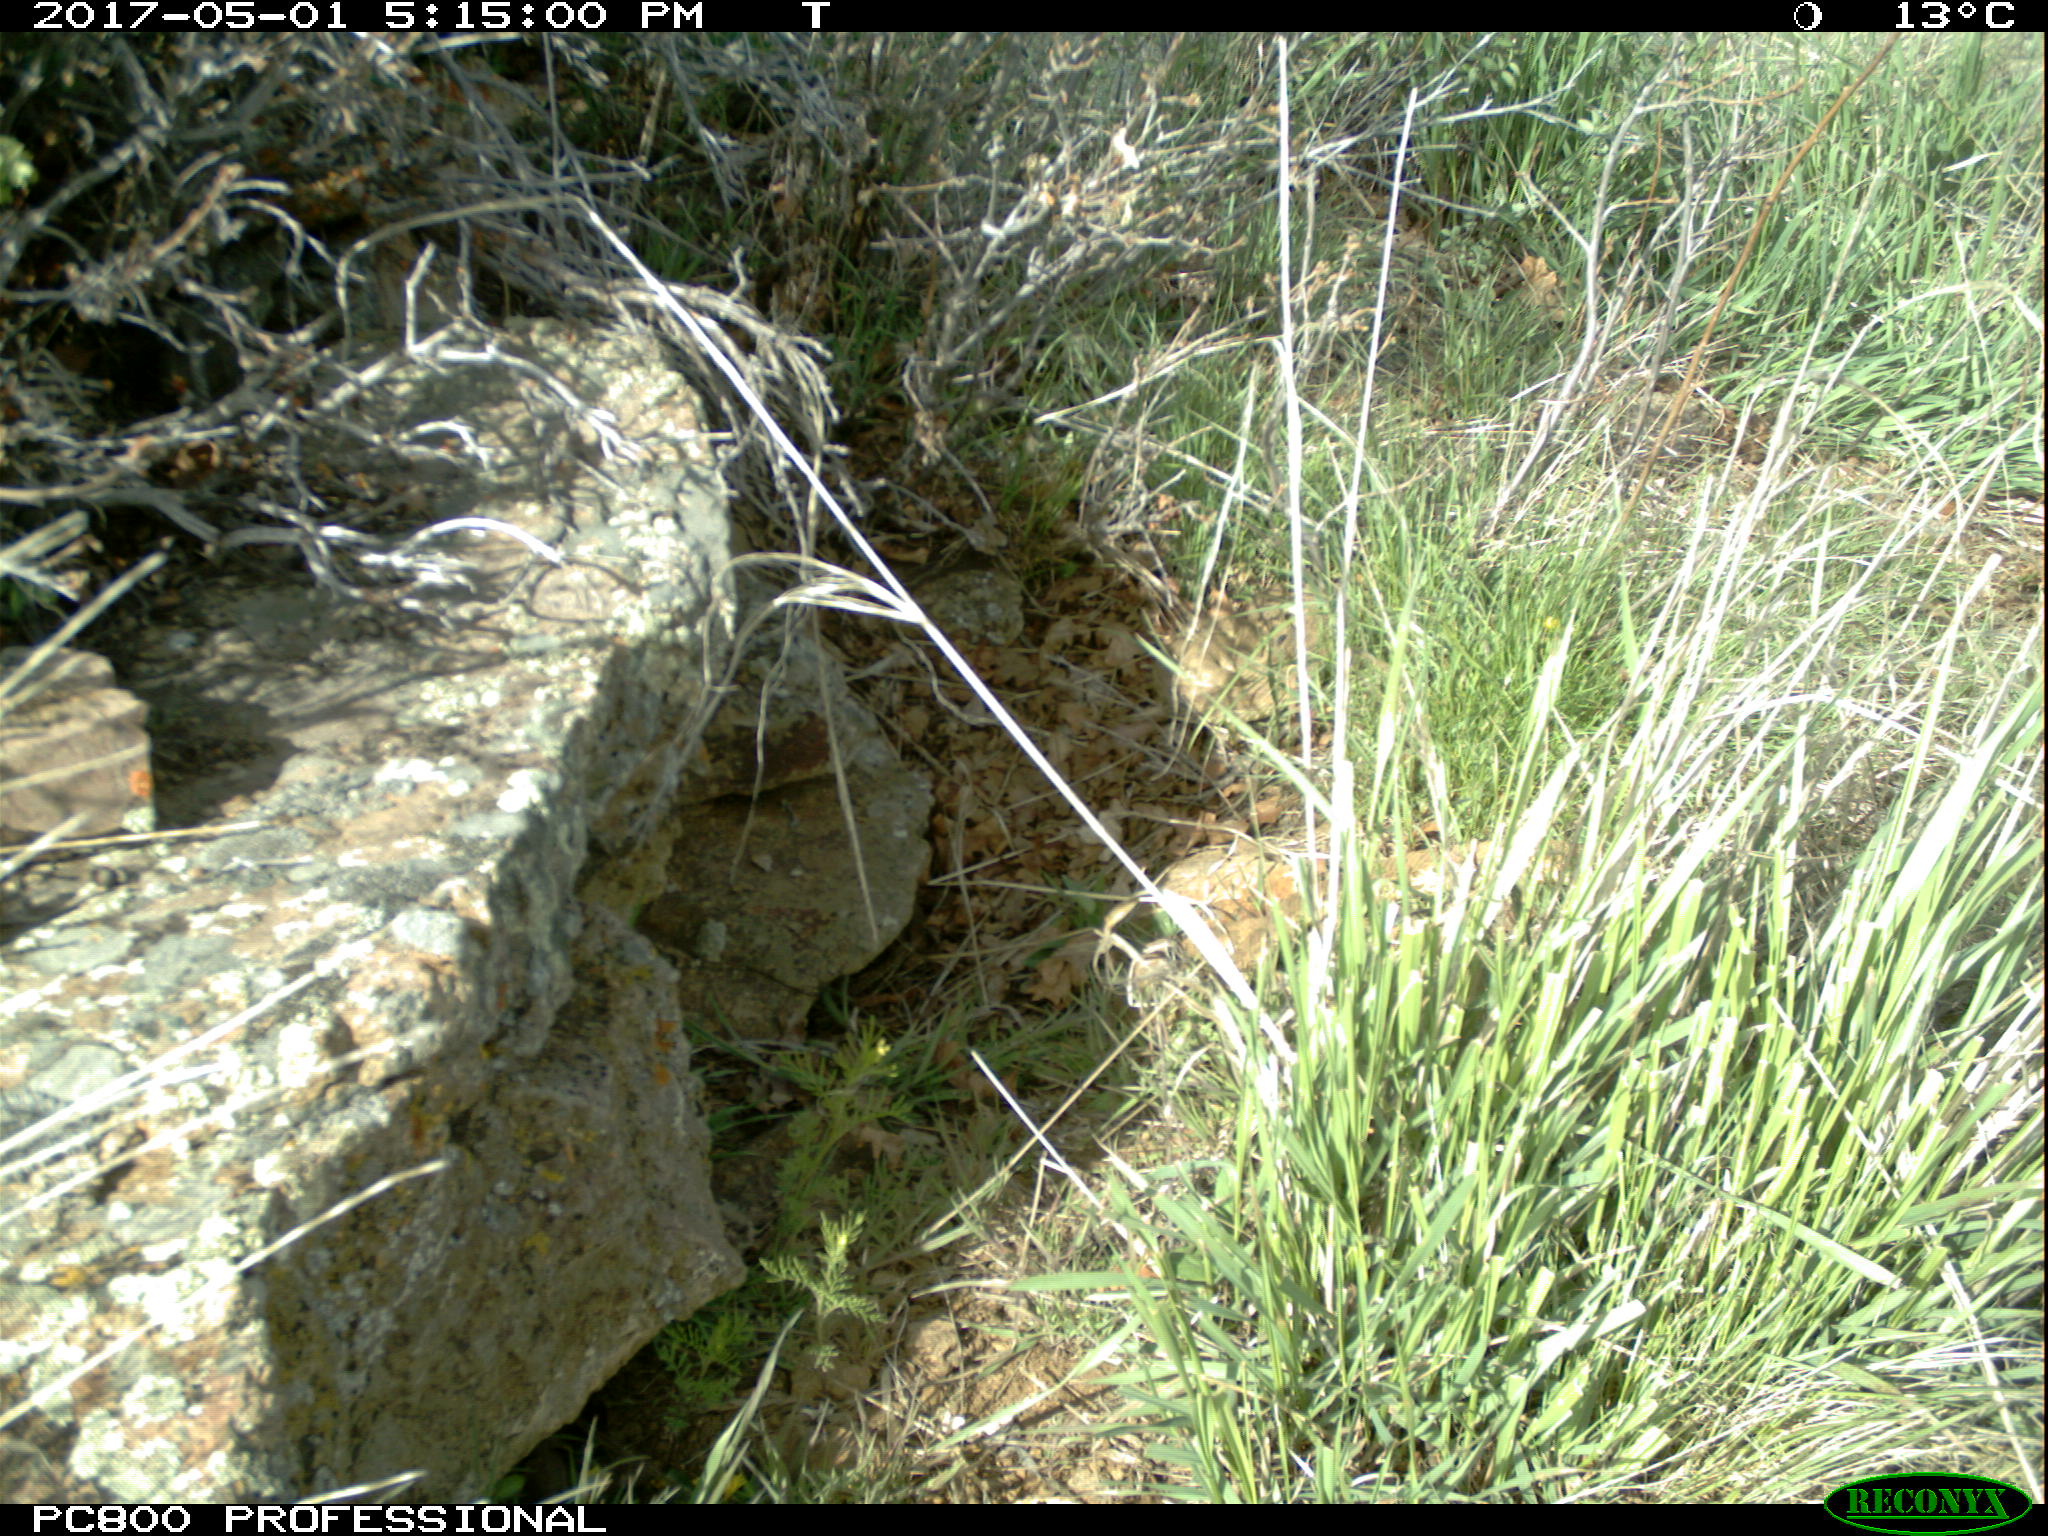snake: (1161, 597, 1330, 724)
